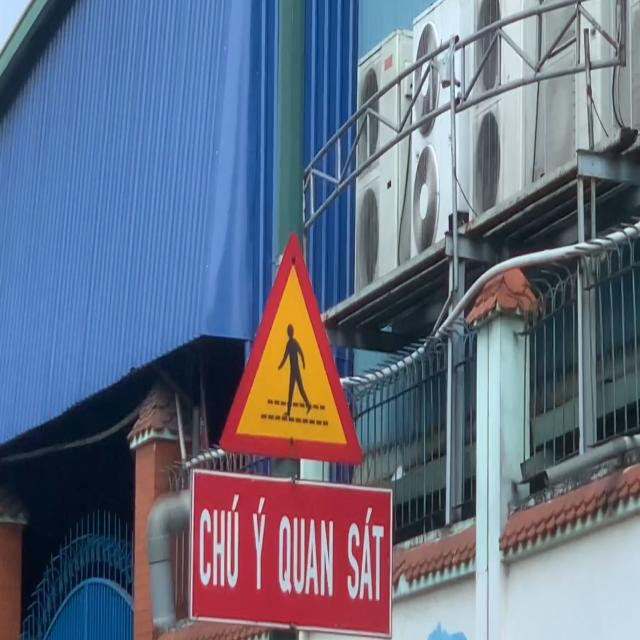Nguoi di bo cat ngang: (217, 229, 364, 466)
